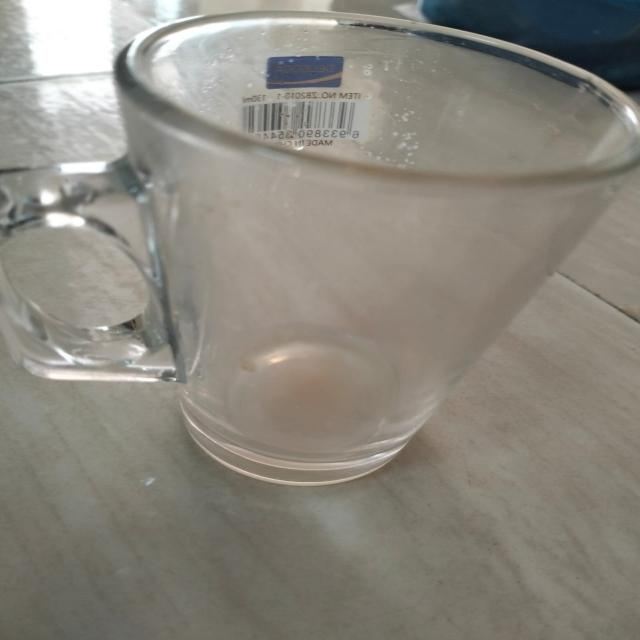glass-VX4N: (0, 12, 638, 484)
